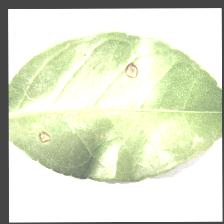canker: (32, 60, 149, 149)
